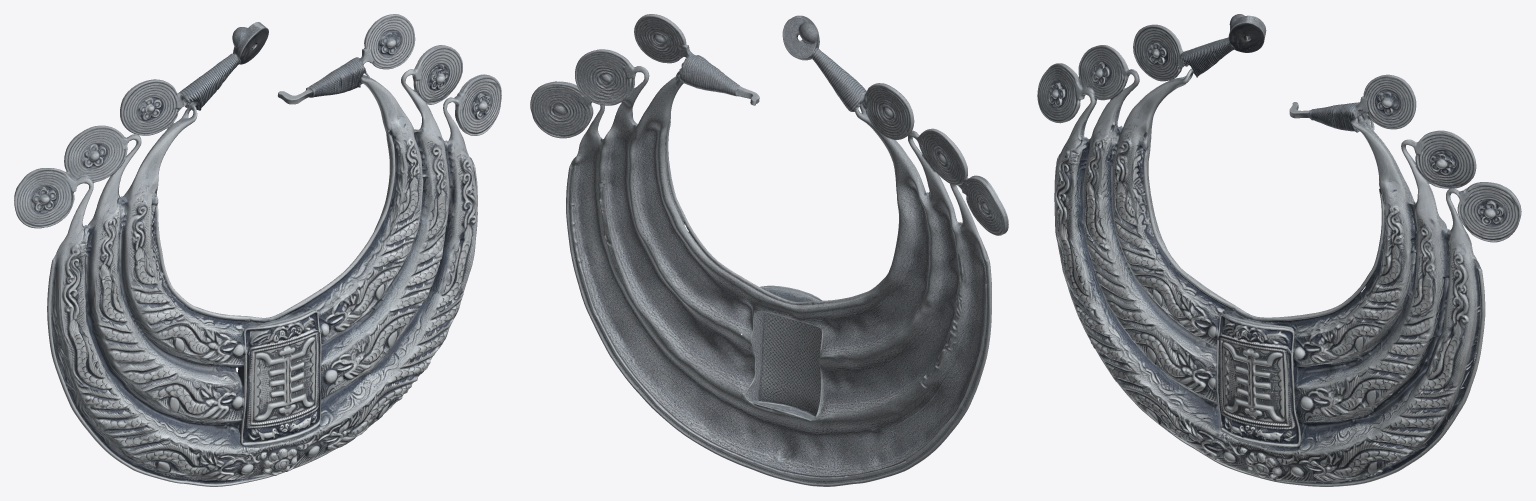
The model's file is crescent-headdress.glb.
3 renders of one model, left to right at view 1: azimuth 30°, elevation 25°; view 2: azimuth 150°, elevation 25°; view 3: azimuth 330°, elevation 25°, orthographic.
Size of the model in its own units: 1.9 by 1.74 by 0.2409.
Materials: 1 (1 with a texture image).
